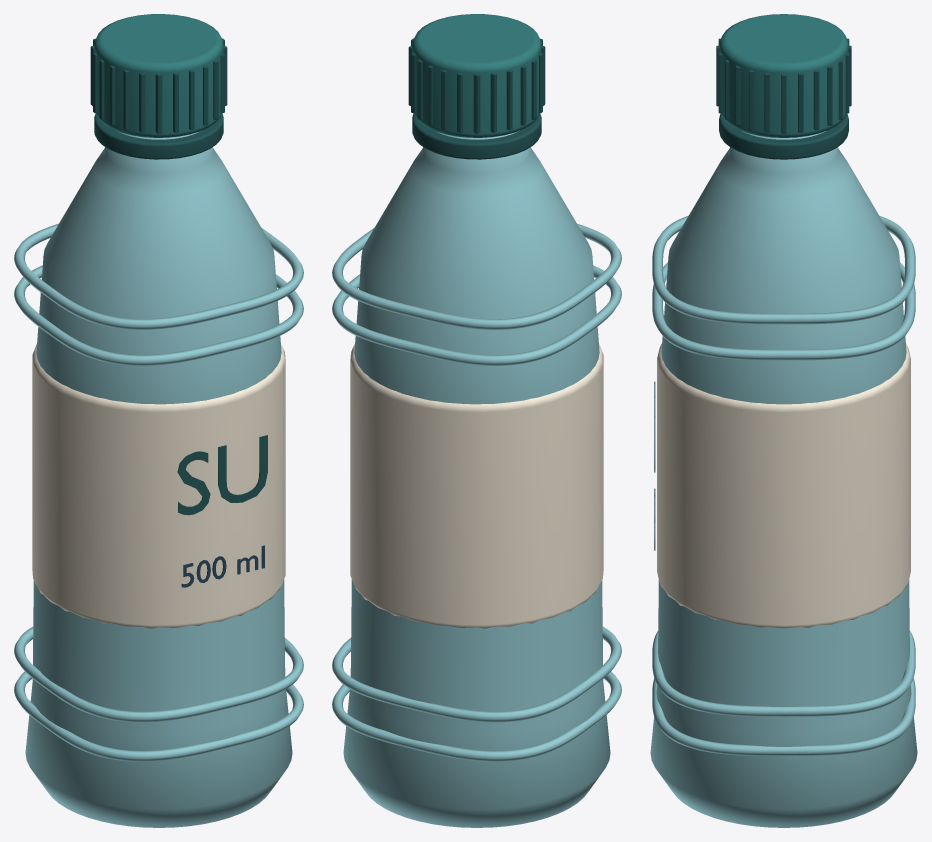
The model's file is WaterBottle.fbx.
The picture shows the model from 3 angles, left to right: view 1: azimuth 30°, elevation 25°; view 2: azimuth 150°, elevation 25°; view 3: azimuth 270°, elevation 25°; orthographic projection.
Visible parts, largest first — view 1: Surface_KKTC_Water, Surface_KKTC_WarmWhite, Surface_KKTC_CanvasTeal, Surface_KKTC_CanvasDeep, Surface_KKTC_BlueInk; view 2: Surface_KKTC_Water, Surface_KKTC_WarmWhite, Surface_KKTC_CanvasTeal, Surface_KKTC_CanvasDeep; view 3: Surface_KKTC_Water, Surface_KKTC_WarmWhite, Surface_KKTC_CanvasTeal, Surface_KKTC_CanvasDeep.
Boxes of the visible parts, x1=… form: Surface_KKTC_Water: x1=14, y1=130, x2=303, y2=827; Surface_KKTC_WarmWhite: x1=32, y1=344, x2=285, y2=628; Surface_KKTC_CanvasTeal: x1=94, y1=14, x2=223, y2=137; Surface_KKTC_CanvasDeep: x1=90, y1=38, x2=267, y2=515; Surface_KKTC_BlueInk: x1=181, y1=545, x2=264, y2=587; Surface_KKTC_Water: x1=332, y1=130, x2=621, y2=827; Surface_KKTC_WarmWhite: x1=350, y1=344, x2=603, y2=628; Surface_KKTC_CanvasTeal: x1=412, y1=14, x2=541, y2=137; Surface_KKTC_CanvasDeep: x1=408, y1=38, x2=545, y2=159; Surface_KKTC_Water: x1=650, y1=131, x2=917, y2=827; Surface_KKTC_WarmWhite: x1=657, y1=343, x2=910, y2=628; Surface_KKTC_CanvasTeal: x1=719, y1=14, x2=848, y2=137; Surface_KKTC_CanvasDeep: x1=654, y1=38, x2=851, y2=472.
Size of the model in its own units: 7.4 by 22.65 by 7.4.
